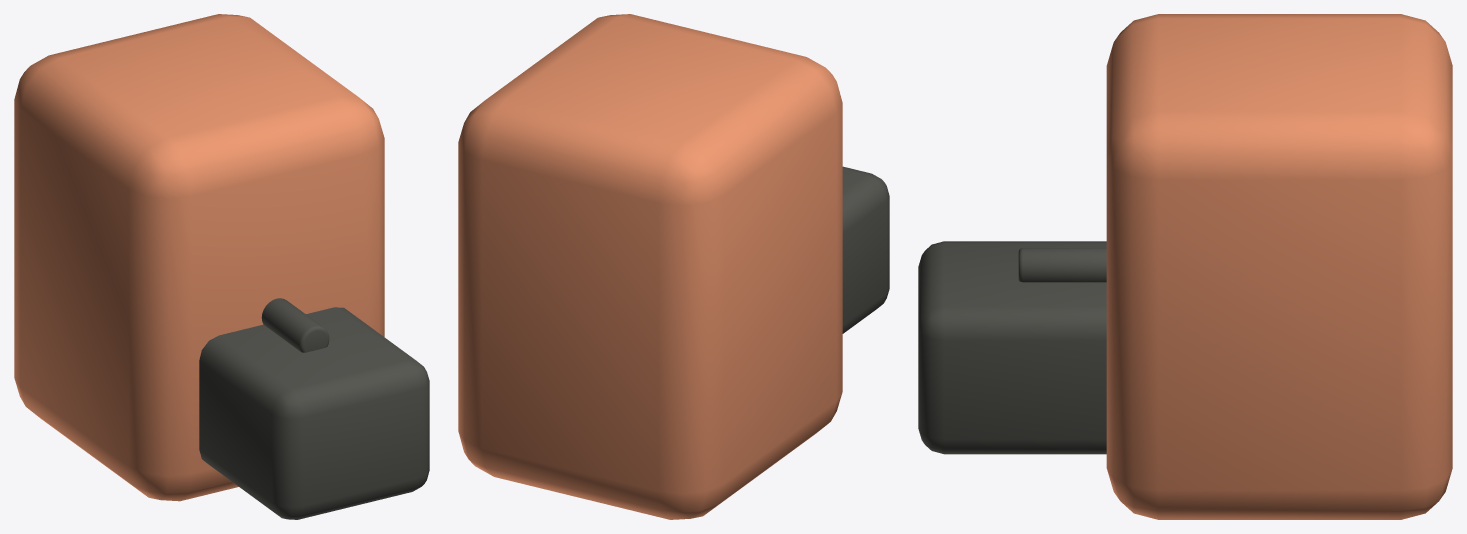
The model's file is coffee-machine.glb.
3 renders of one model, left to right at view 1: azimuth 30°, elevation 25°; view 2: azimuth 150°, elevation 25°; view 3: azimuth 270°, elevation 25°, orthographic. The views are drawn at different scales.
Parts seen in each view (by area): view 1: body.006, opening, spout; view 2: body.006, opening; view 3: body.006, opening, spout.
Part boxes in pixels (left/top/right/bottom): body.006: left=14, top=14, right=384, bottom=501; opening: left=199, top=307, right=429, bottom=519; spout: left=261, top=298, right=329, bottom=352; body.006: left=458, top=14, right=842, bottom=519; opening: left=842, top=166, right=889, bottom=333; body.006: left=1106, top=14, right=1452, bottom=519; opening: left=918, top=241, right=1106, bottom=454; spout: left=1018, top=248, right=1106, bottom=282.
Size of the model in its own units: 0.42 by 0.58 by 0.6952.
